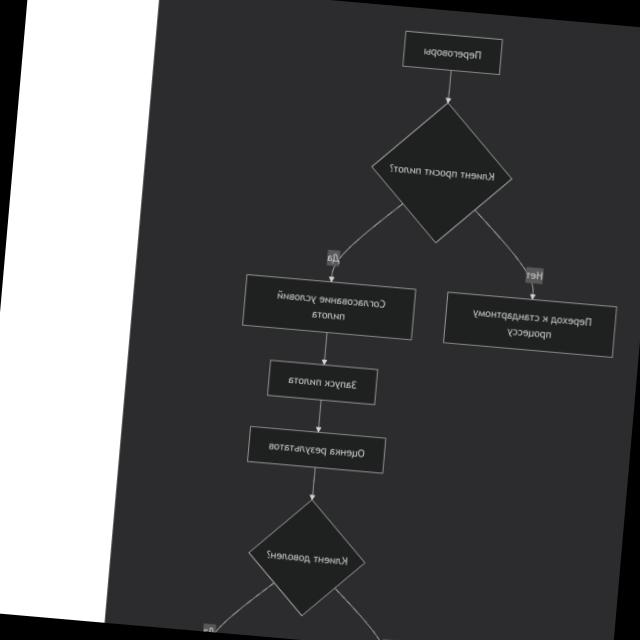arrow: (327, 196, 405, 287), (467, 209, 543, 300), (307, 467, 320, 501), (320, 332, 332, 365), (444, 70, 455, 105), (314, 399, 324, 433)
diamond: (371, 102, 512, 243), (247, 499, 365, 616)
rectangle: (241, 273, 415, 339), (443, 291, 616, 357), (246, 427, 385, 474), (266, 360, 377, 404), (401, 30, 502, 76)
text_region: (525, 269, 543, 282), (326, 251, 340, 266)
